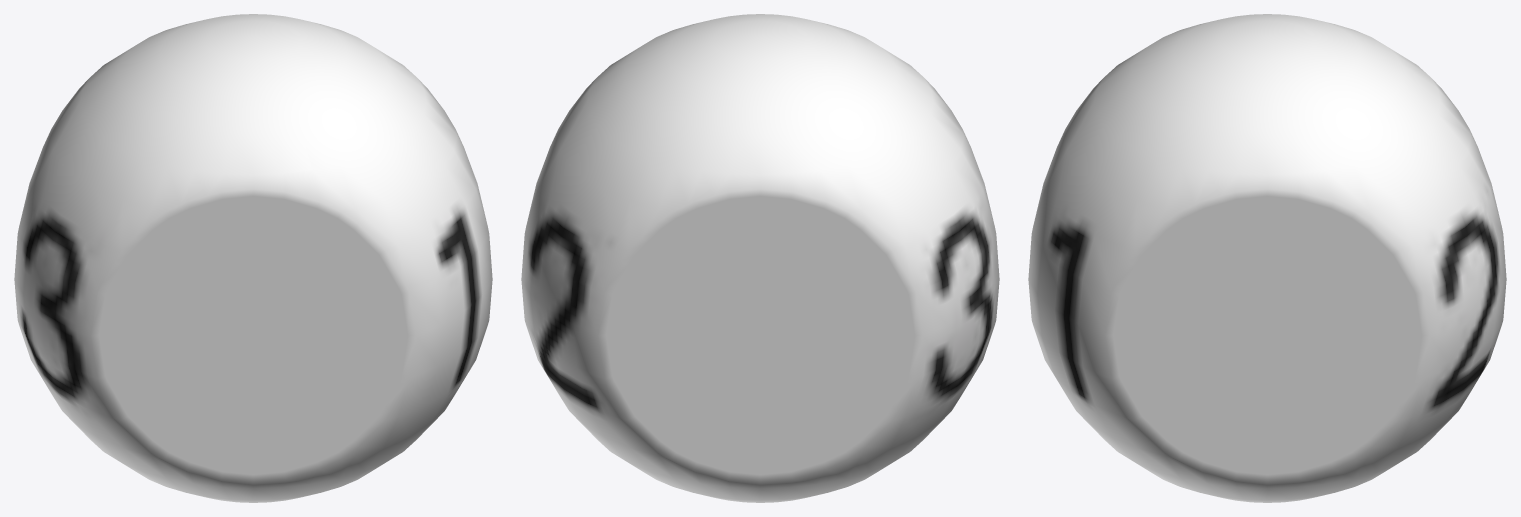
The picture shows the model from 3 angles, left to right: view 1: azimuth 30°, elevation 25°; view 2: azimuth 150°, elevation 25°; view 3: azimuth 270°, elevation 25°; orthographic projection.
Visible parts, largest first — view 1: D3; view 2: D3; view 3: D3.
Boxes of the visible parts, x1,y1,x2,y2 form: D3: (14, 14, 492, 502); D3: (521, 14, 999, 502); D3: (1028, 14, 1506, 502).
Bounding box in the file's own units: 0.014 × 0.016 × 0.0156.
1 material, 1 textured.
